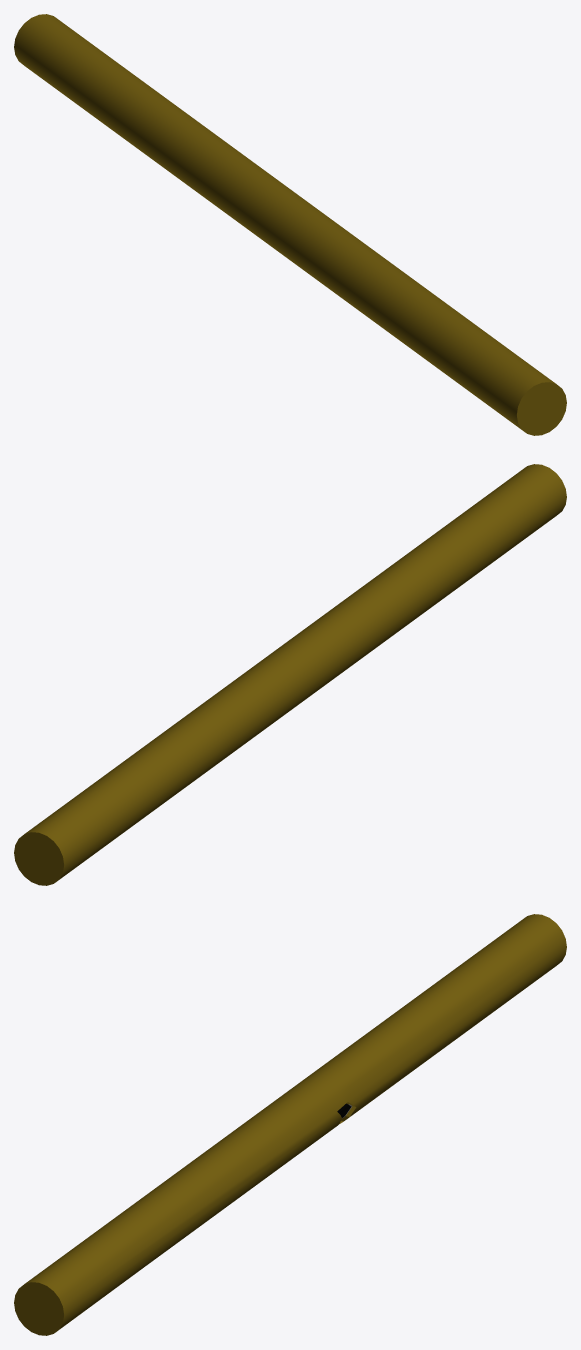
The model's file is Pipe_Broken.fbx.
3 renders of one model, top to bottom at view 1: azimuth 30°, elevation 25°; view 2: azimuth 150°, elevation 25°; view 3: azimuth 330°, elevation 25°, orthographic.
Parts seen in each view (by area): view 1: Pipe; view 2: Pipe; view 3: Pipe.
Boxes of the visible parts, left/top/right/bottom form: Pipe: left=14, top=14, right=566, bottom=435; Pipe: left=14, top=464, right=566, bottom=885; Pipe: left=14, top=914, right=566, bottom=1335.
Size of the model in its own units: 1.05 by 1.05 by 18.23.
